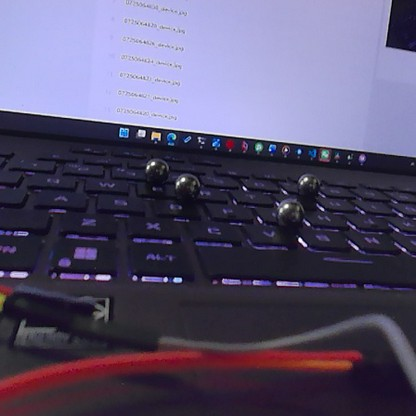ironball: (272, 195, 306, 230), (170, 169, 205, 201), (142, 155, 170, 184), (294, 168, 321, 198)
